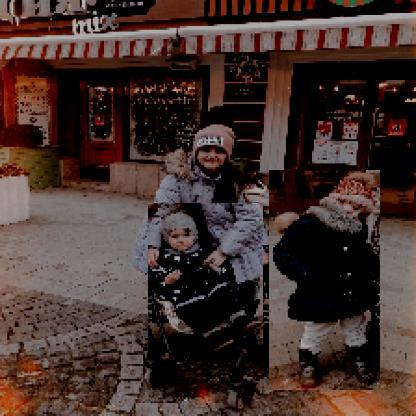child: (270, 171, 382, 392), (149, 204, 265, 355)
